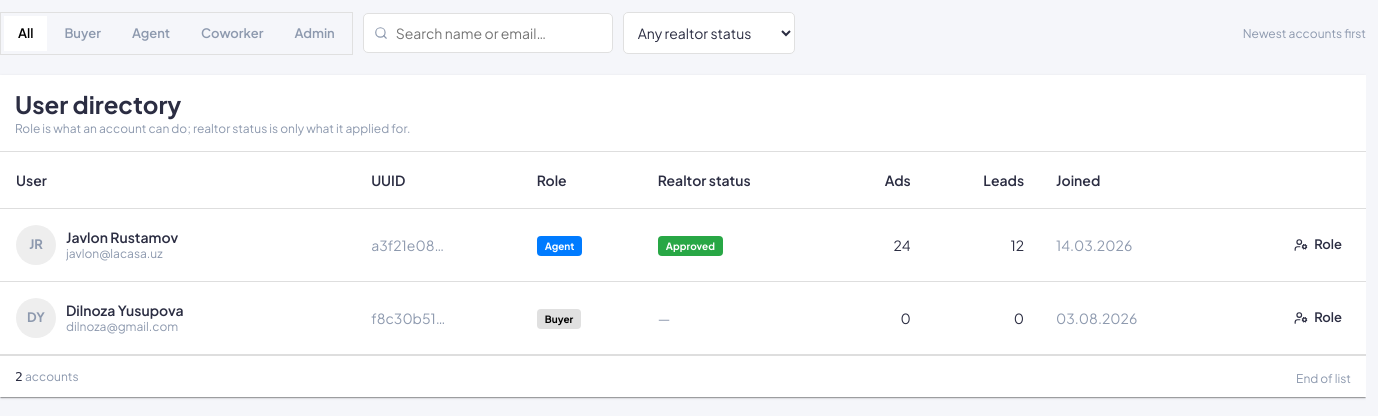
UsersScreen › distinguishes a filtered-away list from an empty one
Expected: the text "Javlon Rustamov" is shown, [66,228,178,246]
What coordinates should you click on to do the following:
click the button "Coworker"
I would click on:
 (232, 33)
Its box is [187,16,277,51].
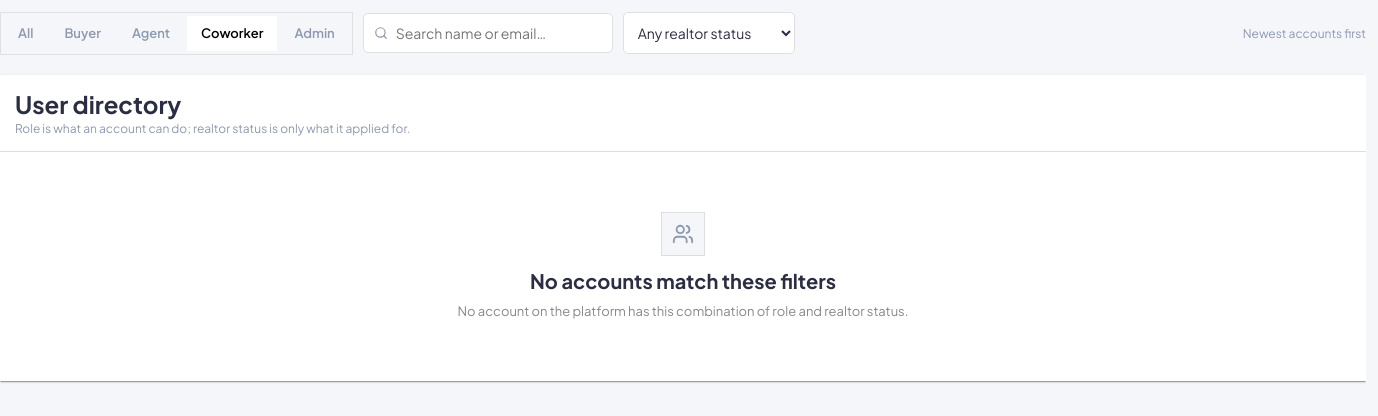
Expected: the text "No accounts match these filters" is shown, [530,268,836,292]
Expected: the text "No account on the platform has this combination of role and realtor status." is shown, [458,300,908,321]
